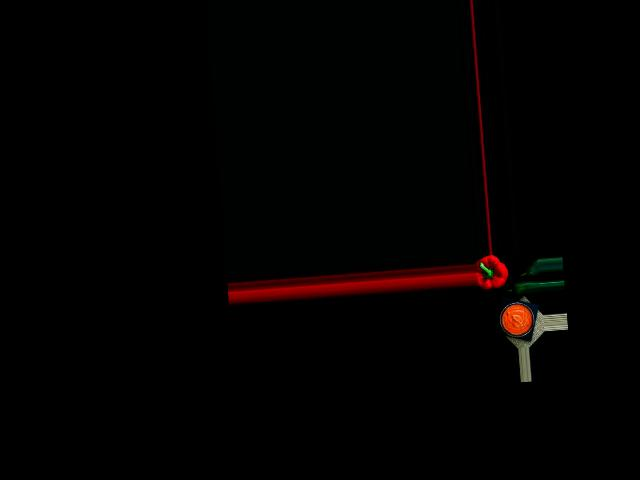bell_pepper: (475, 254, 508, 290)
